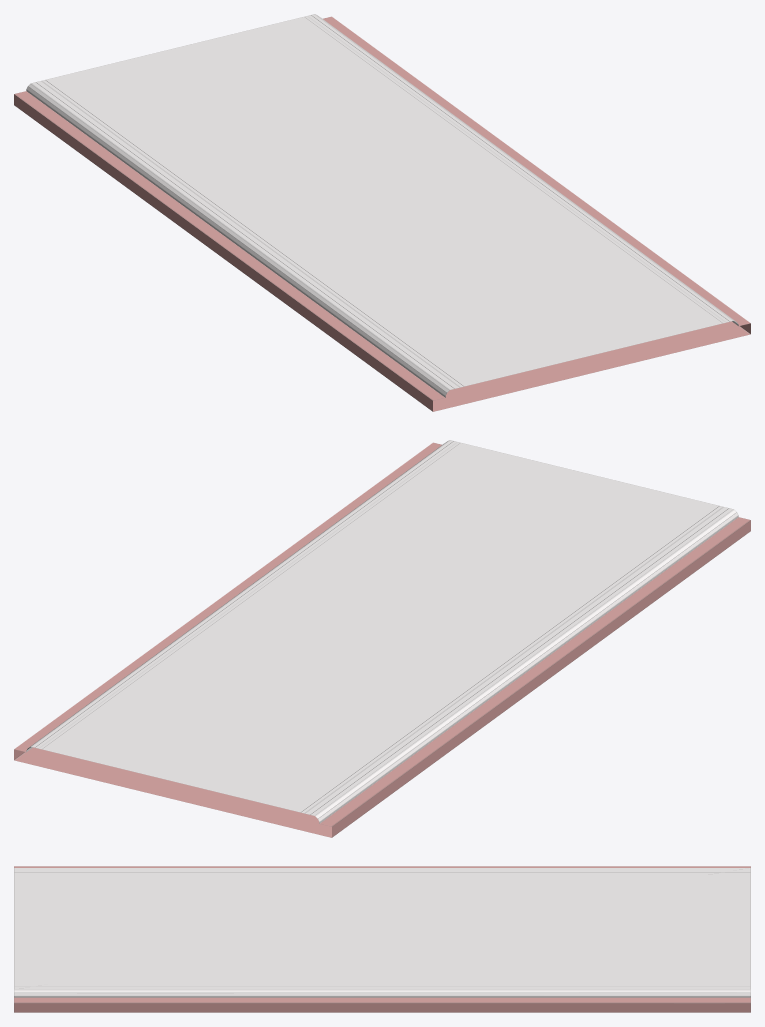
Rendered from ConveyorBelt.fbx.
The picture shows the model from 3 angles, top to bottom: view 1: azimuth 30°, elevation 25°; view 2: azimuth 150°, elevation 25°; view 3: azimuth 270°, elevation 25°; orthographic projection. The views are drawn at different scales.
Parts seen in each view (by area): view 1: Belt; view 2: Belt; view 3: Belt.
Part boxes in pixels (x1,y1,x2,y2): Belt: [14, 14, 750, 411]; Belt: [14, 440, 750, 837]; Belt: [14, 866, 750, 1012].
Size of the model in its own units: 5.97 by 0.3176 by 13.63.
Materials: 1 (1 with a texture image).
